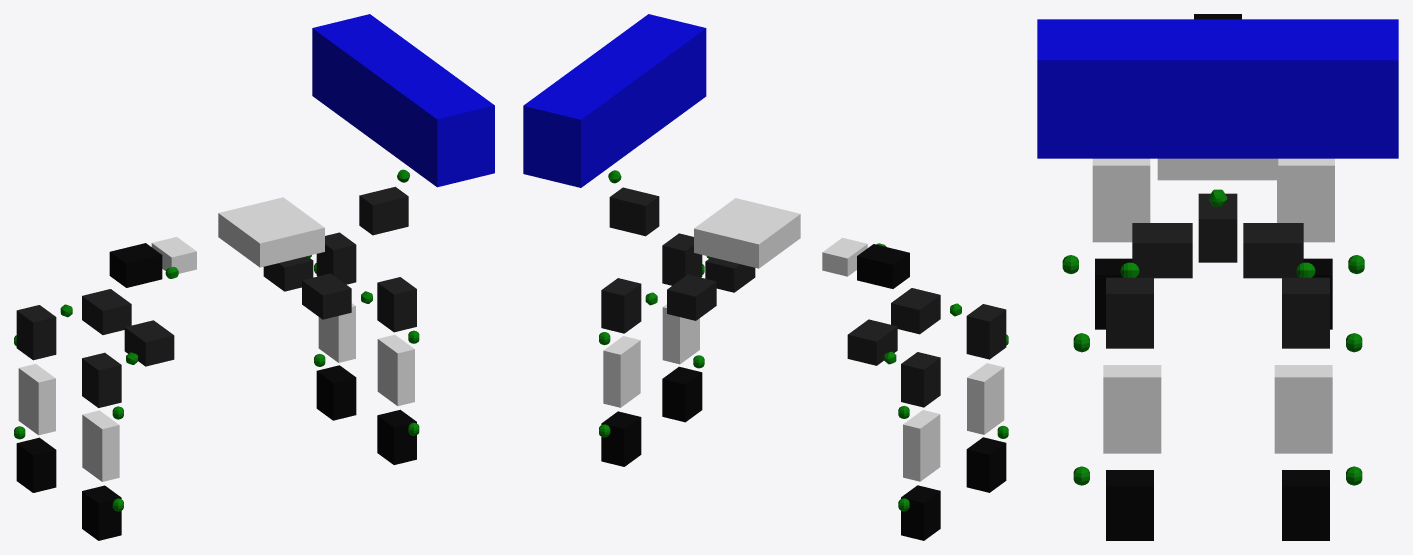
The model's file is dog.dae.
The picture shows the model from 3 angles, left to right: view 1: azimuth 30°, elevation 25°; view 2: azimuth 150°, elevation 25°; view 3: azimuth 270°, elevation 25°; orthographic projection. The views are drawn at different scales.
Parts seen in each view (by area): view 1: kinect_link, base_link, calf_link_15, calf_link_14, calf_link_8, dynamixel_AX12_3_link, dynamixel_AX12_9_link, dynamixel_AX12_13_link, dynamixel_AX12_15_link, dynamixel_AX12_1_link, dynamixel_AX12_12_link, dynamixel_AX12_16_link (+9 smaller); view 2: kinect_link, base_link, calf_link_15, calf_link_9, calf_link_14, dynamixel_AX12_3_link, dynamixel_AX12_14_link, dynamixel_AX12_8_link, dynamixel_AX12_12_link, dynamixel_AX12_7_link, dynamixel_AX12_13_link, dynamixel_AX12_1_link (+9 smaller); view 3: kinect_link, calf_link_8, calf_link_9, calf_link_14, calf_link_15, dynamixel_AX12_16_link, dynamixel_AX12_7_link, dynamixel_AX12_8_link, dynamixel_AX12_9_link, dynamixel_AX12_4_link, dynamixel_AX12_5_link, base_link (+3 smaller).
Boxes of the visible parts, bbox=[...] form: kinect_link: bbox=[312, 14, 494, 187]; base_link: bbox=[218, 197, 324, 267]; calf_link_15: bbox=[18, 364, 55, 435]; calf_link_14: bbox=[82, 410, 119, 481]; calf_link_8: bbox=[377, 334, 414, 405]; dynamixel_AX12_3_link: bbox=[359, 186, 408, 235]; dynamixel_AX12_9_link: bbox=[316, 365, 356, 420]; dynamixel_AX12_13_link: bbox=[16, 305, 56, 360]; dynamixel_AX12_15_link: bbox=[16, 437, 56, 492]; dynamixel_AX12_1_link: bbox=[109, 243, 162, 287]; dynamixel_AX12_12_link: bbox=[82, 352, 121, 407]; dynamixel_AX12_16_link: bbox=[377, 277, 416, 332]; kinect_link: bbox=[523, 14, 706, 187]; base_link: bbox=[694, 198, 800, 268]; calf_link_15: bbox=[903, 410, 940, 481]; calf_link_9: bbox=[603, 336, 640, 407]; calf_link_14: bbox=[967, 363, 1004, 434]; dynamixel_AX12_3_link: bbox=[609, 187, 659, 236]; dynamixel_AX12_14_link: bbox=[966, 437, 1006, 492]; dynamixel_AX12_8_link: bbox=[662, 366, 702, 422]; dynamixel_AX12_12_link: bbox=[966, 304, 1006, 359]; dynamixel_AX12_7_link: bbox=[601, 278, 641, 333]; dynamixel_AX12_13_link: bbox=[901, 352, 940, 407]; dynamixel_AX12_1_link: bbox=[857, 244, 909, 288]; kinect_link: bbox=[1037, 19, 1398, 158]; calf_link_8: bbox=[1103, 365, 1161, 453]; calf_link_9: bbox=[1274, 365, 1332, 453]; calf_link_14: bbox=[1092, 158, 1150, 242]; calf_link_15: bbox=[1277, 158, 1334, 242]; dynamixel_AX12_16_link: bbox=[1106, 277, 1153, 348]; dynamixel_AX12_7_link: bbox=[1282, 277, 1329, 348]; dynamixel_AX12_8_link: bbox=[1106, 470, 1153, 540]; dynamixel_AX12_9_link: bbox=[1282, 470, 1329, 540]; dynamixel_AX12_4_link: bbox=[1132, 223, 1192, 278]; dynamixel_AX12_5_link: bbox=[1243, 223, 1303, 278]; base_link: bbox=[1157, 158, 1278, 180].
Bounding box in the file's own units: 0.261 × 0.15 × 0.2375.
